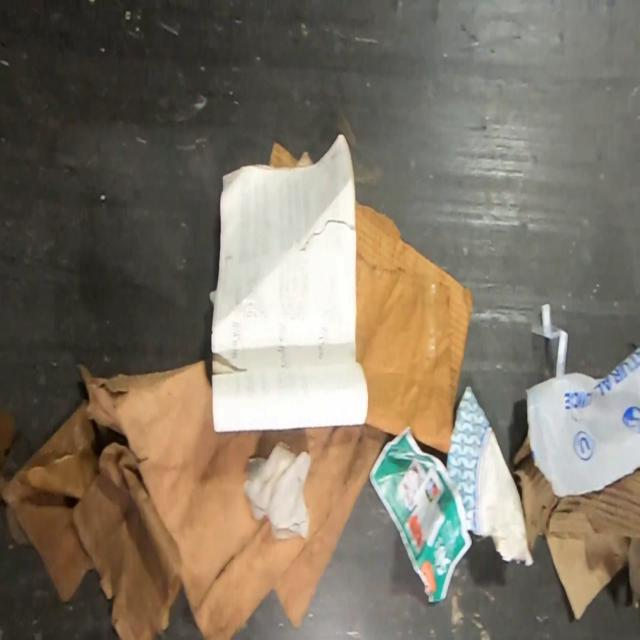cardboard: (209, 133, 369, 433), (356, 198, 475, 456), (510, 427, 640, 622), (0, 400, 20, 479), (268, 140, 313, 167)
